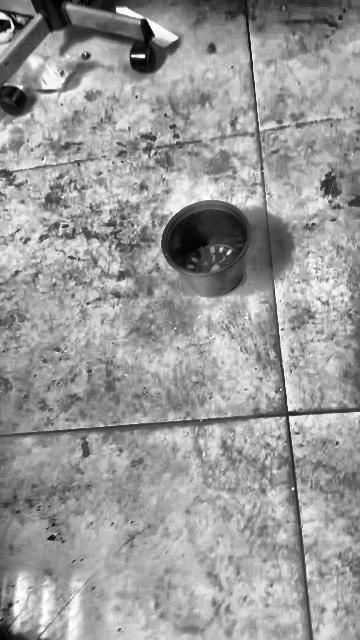pot: (162, 200, 249, 297)
